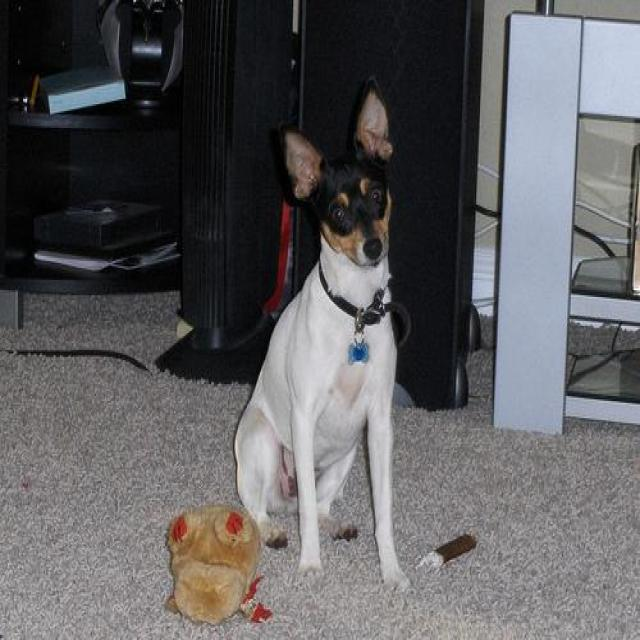toy_terrier: (233, 85, 416, 598)
